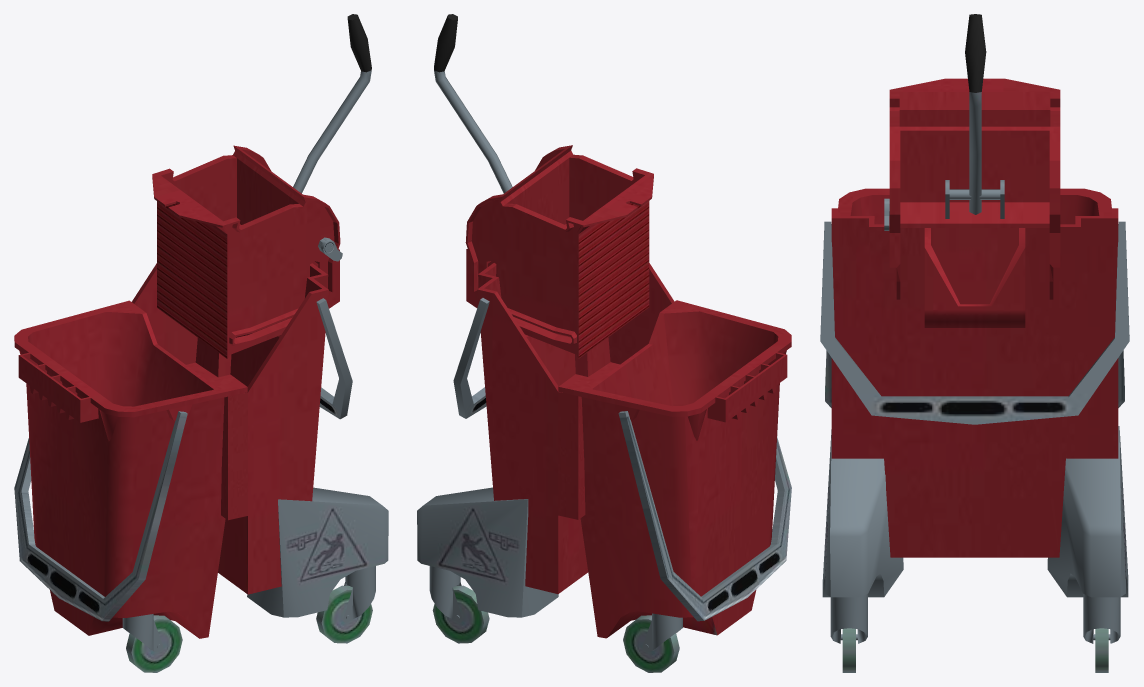
The model's file is mop_bucket-1.FBX.
3 views of the same model, side by side, from view 1: azimuth 30°, elevation 25°; view 2: azimuth 150°, elevation 25°; view 3: azimuth 270°, elevation 25° (orthographic). The views are drawn at different scales.
Visible parts, largest first — view 1: mop_bucket-1_LOD0; view 2: mop_bucket-1_LOD0; view 3: mop_bucket-1_LOD0.
Part boxes in pixels (x1,y1,x2,y2): mop_bucket-1_LOD0: [14, 14, 388, 672]; mop_bucket-1_LOD0: [417, 14, 791, 672]; mop_bucket-1_LOD0: [820, 14, 1129, 672].
Size of what is drawn, in the model's own units: 27.76 by 47.1 by 19.1.
